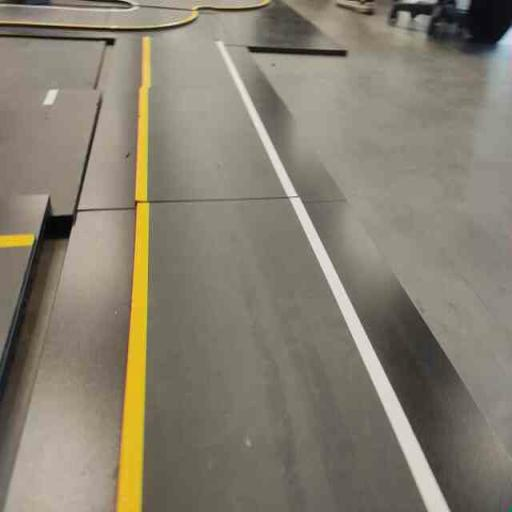straight: (114, 204, 454, 512)
